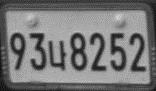2: (89, 32, 107, 72), (128, 31, 146, 71)
3: (28, 31, 47, 70)
5: (109, 32, 127, 71)
8: (69, 32, 87, 71)
9: (9, 31, 26, 70)
나: (48, 39, 67, 70)
